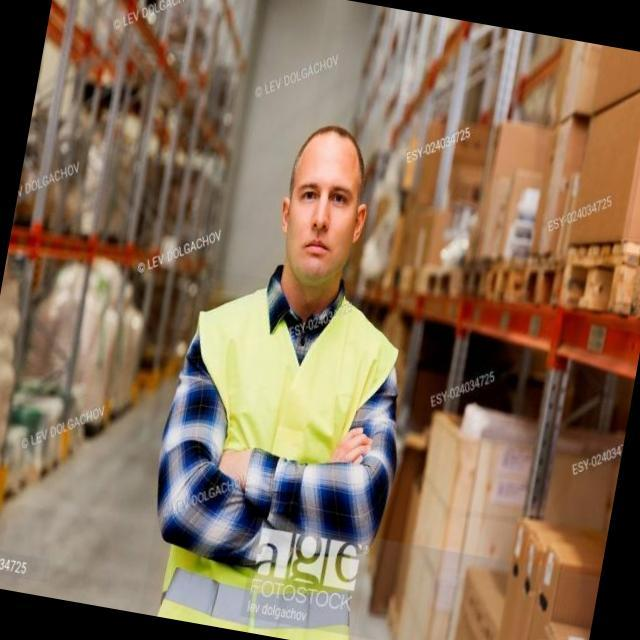Person: (108, 99, 454, 640)
Safety Vest: (138, 266, 412, 640), (625, 94, 640, 256)
no-helmet: (275, 124, 376, 182)
